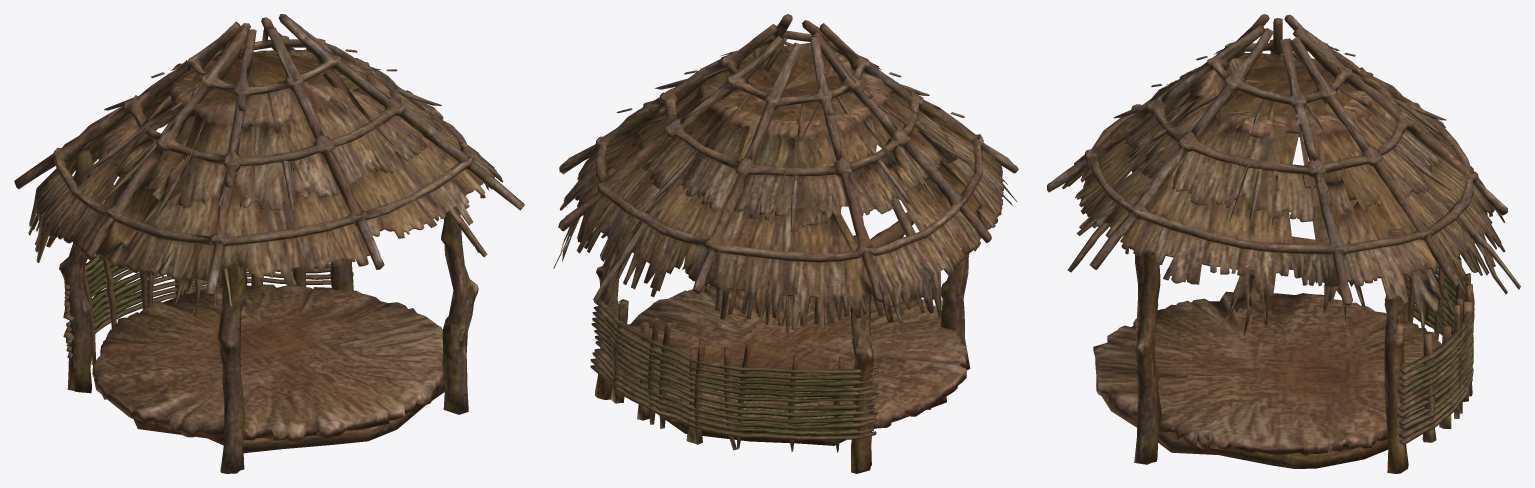
File: 3d-rustic_round_shelter_or_open_hut_model_free.glb
The picture shows the model from 3 angles, left to right: view 1: azimuth 30°, elevation 25°; view 2: azimuth 150°, elevation 25°; view 3: azimuth 270°, elevation 25°; orthographic projection. The views are drawn at different scales.
Visible parts, largest first — view 1: Model_0; view 2: Model_0; view 3: Model_0.
Boxes of the visible parts, box(x1,y1,x2,y2) form: Model_0: box(14, 14, 524, 473); Model_0: box(553, 14, 1018, 473); Model_0: box(1047, 14, 1520, 473).
Bounding box in the file's own units: 0.9843 × 0.91 × 1.
Materials: 1 (1 with a texture image).
